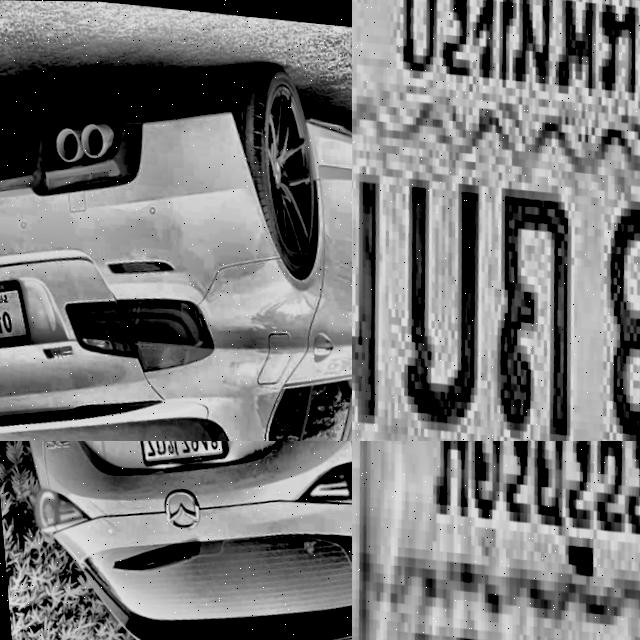license-plate: (352, 0, 640, 441), (352, 441, 640, 640), (119, 441, 227, 484), (0, 266, 29, 361)
